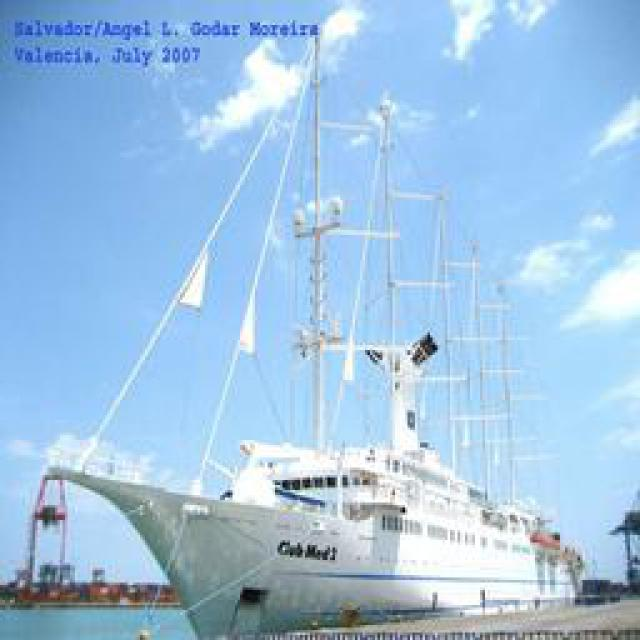Ship: (26, 20, 611, 628)
